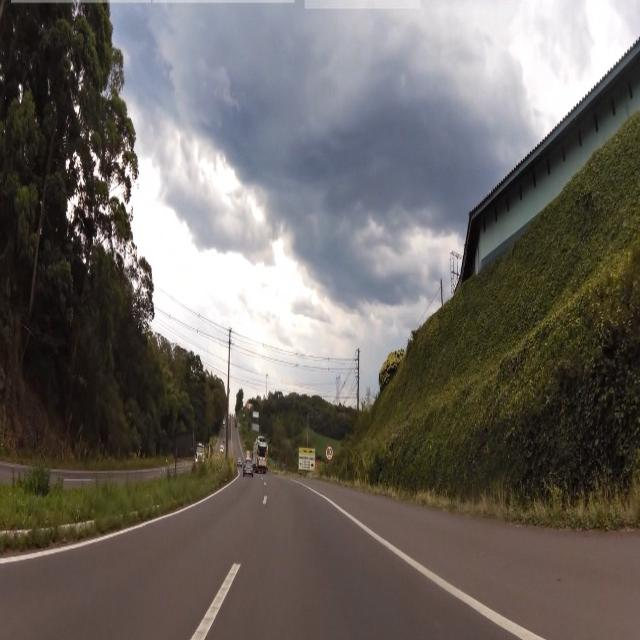R-19: (326, 443, 333, 462)
